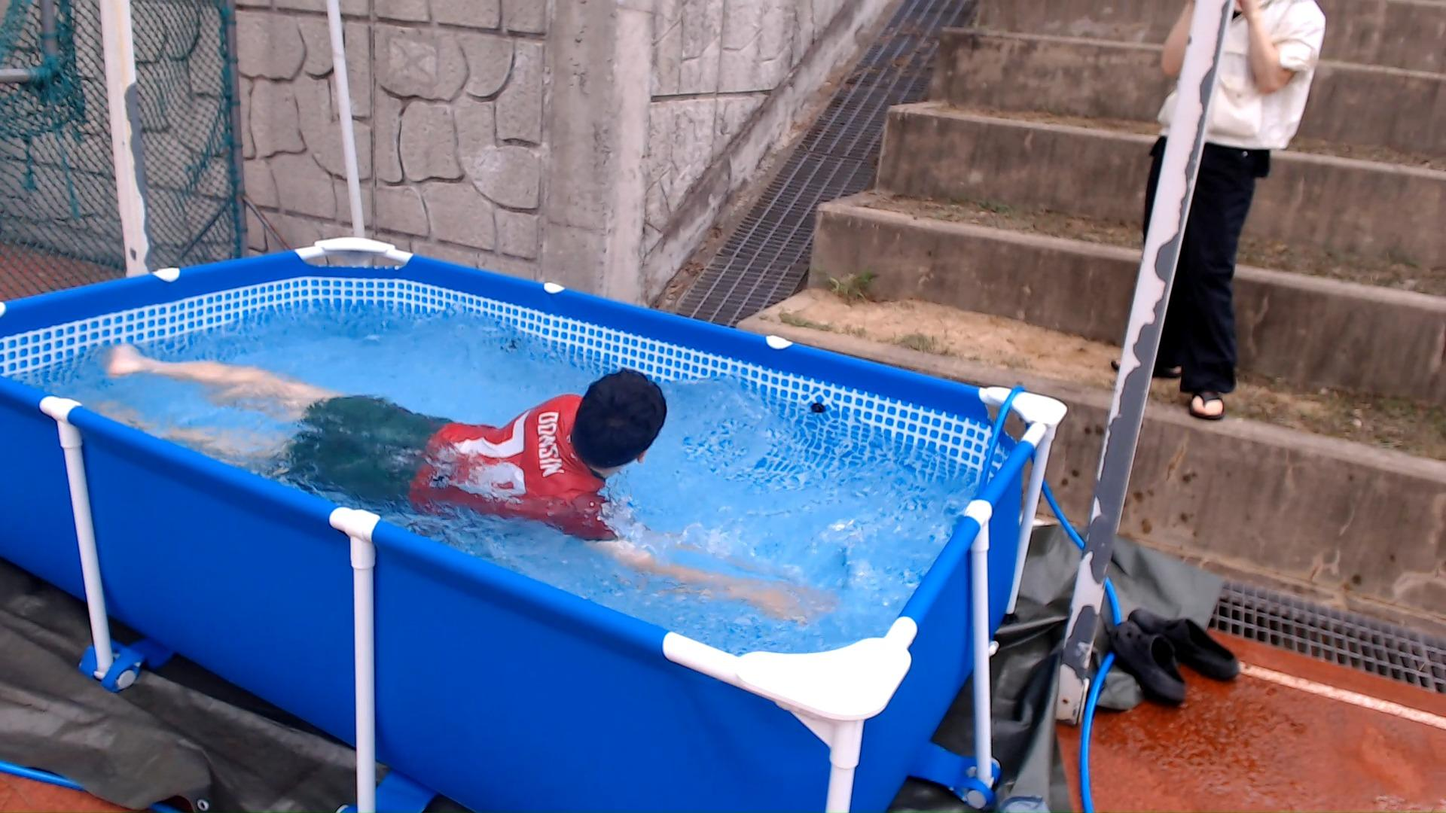Swimming: (100, 301, 841, 646)
